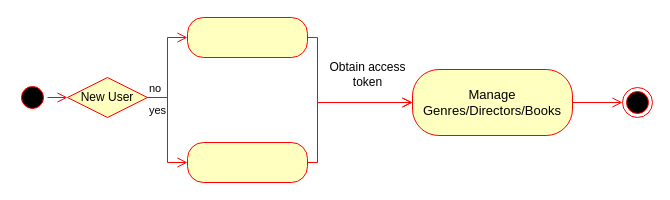
Image size: 670x200. Some labels were removed from this diagram. The box of each missing label's shape, as (x1, y1, x2, y2) in pixels:
Create account: (186, 16, 308, 58)
Log in: (186, 142, 308, 182)
